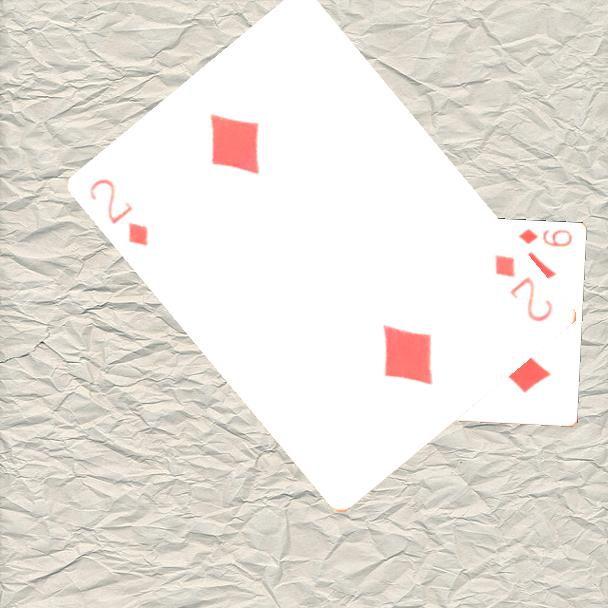d02: (491, 250, 557, 325), (86, 174, 152, 249)
d09: (515, 225, 574, 250)
